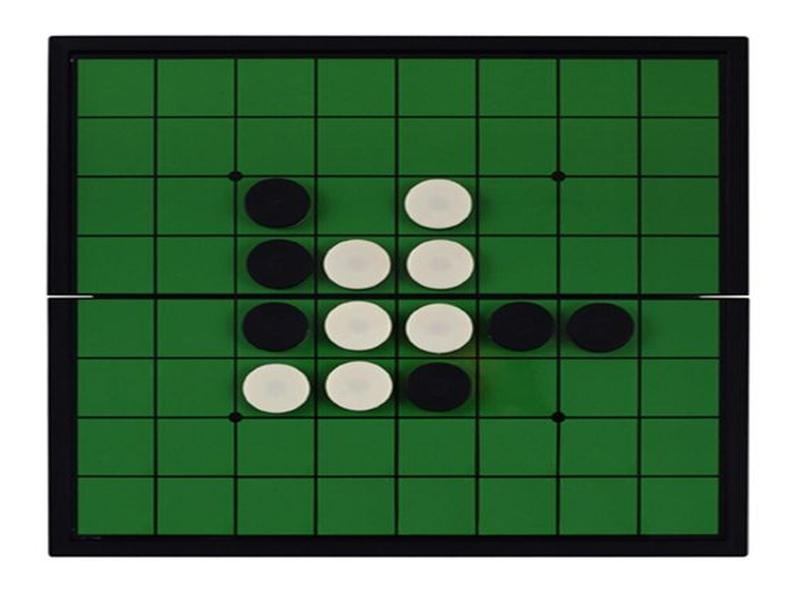black: (480, 299, 566, 363), (237, 236, 319, 301), (235, 298, 319, 361), (562, 302, 640, 366), (398, 358, 480, 415), (236, 176, 312, 232)
white: (239, 363, 315, 423), (322, 236, 398, 294), (401, 172, 474, 232), (399, 236, 476, 292), (401, 299, 476, 356), (319, 358, 392, 415), (321, 301, 396, 354)
